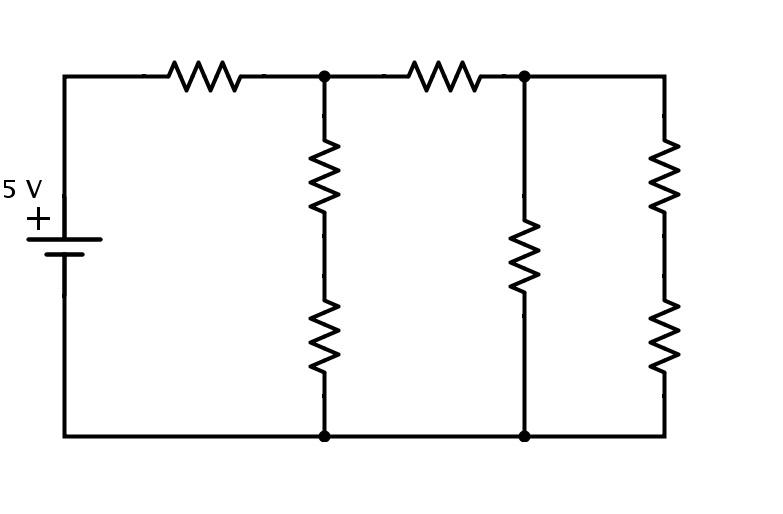resistor: (607, 260, 697, 416), (474, 184, 563, 306), (286, 123, 361, 262), (389, 39, 501, 118), (158, 31, 263, 113), (619, 112, 687, 233), (288, 281, 346, 386)
